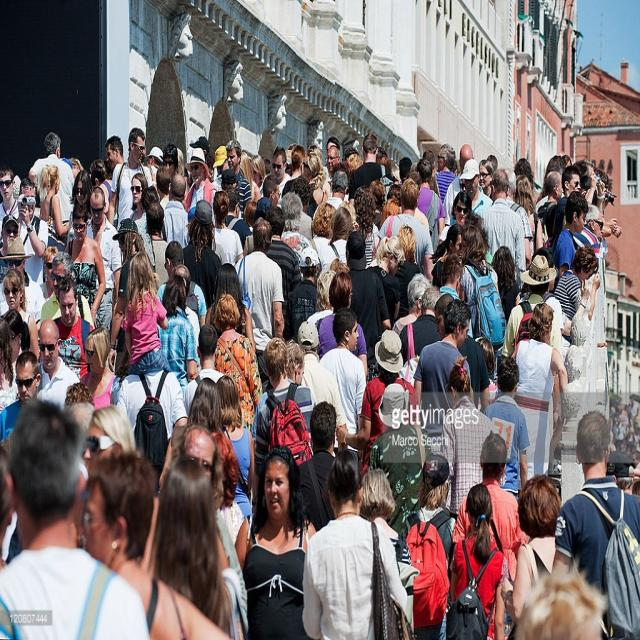body: (0, 404, 241, 639), (314, 136, 454, 357), (453, 132, 624, 274), (301, 448, 413, 639), (548, 407, 640, 639), (513, 466, 609, 639), (242, 444, 320, 639), (282, 242, 348, 452), (502, 225, 612, 351), (112, 168, 206, 314), (116, 324, 188, 501), (336, 330, 420, 479), (452, 428, 527, 582), (510, 302, 570, 492), (184, 255, 258, 406), (350, 460, 419, 621), (400, 452, 458, 640), (242, 132, 344, 238), (152, 133, 240, 255), (444, 480, 510, 639), (0, 166, 42, 401), (254, 336, 318, 478), (439, 355, 493, 523), (234, 217, 285, 394), (375, 176, 435, 324), (31, 315, 120, 414), (318, 308, 368, 462), (457, 227, 505, 383), (482, 356, 530, 504), (213, 292, 263, 433), (120, 252, 173, 376), (214, 373, 255, 529), (477, 169, 526, 291), (83, 186, 123, 335), (66, 204, 106, 330), (36, 248, 95, 333), (157, 274, 199, 392), (108, 128, 153, 234), (181, 198, 223, 310), (52, 277, 95, 382), (30, 131, 76, 229), (36, 164, 72, 282), (68, 134, 124, 202), (16, 178, 50, 286), (607, 385, 639, 495), (348, 133, 392, 205), (183, 148, 218, 226), (430, 295, 476, 347), (472, 334, 502, 408)
